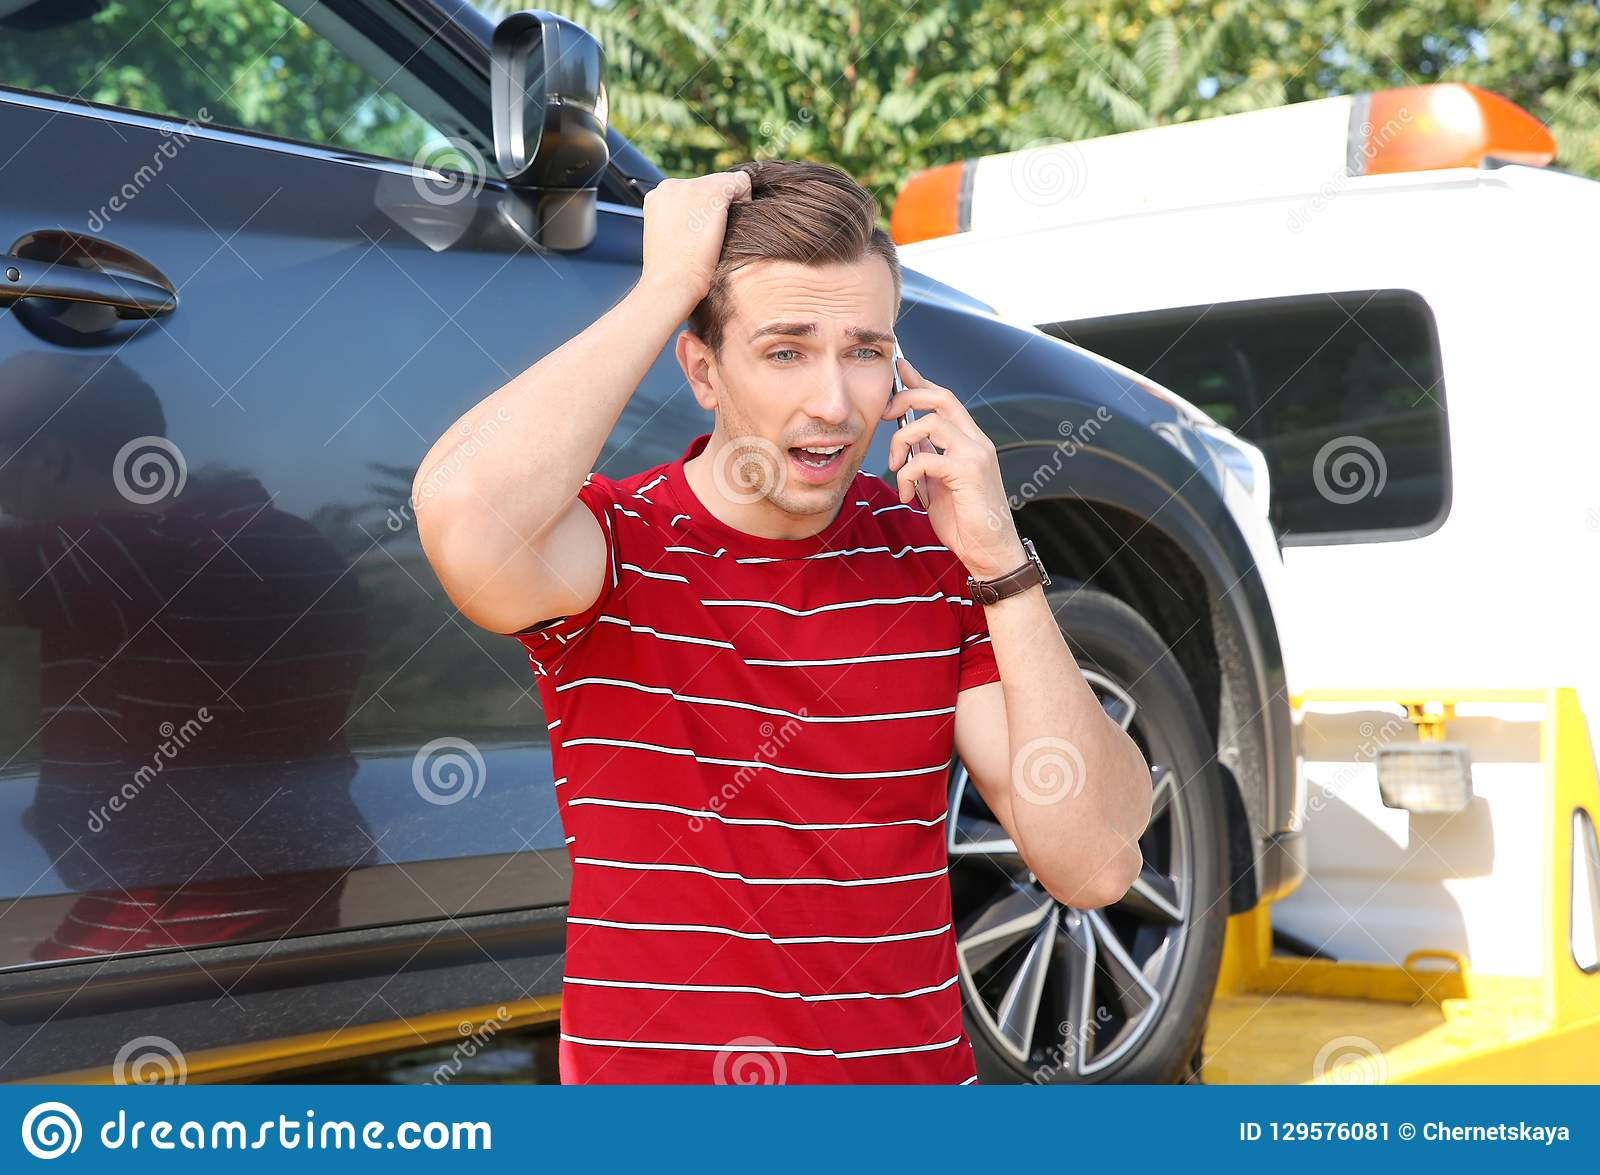phone: (889, 318, 930, 510)
talk: (739, 306, 1024, 570)
